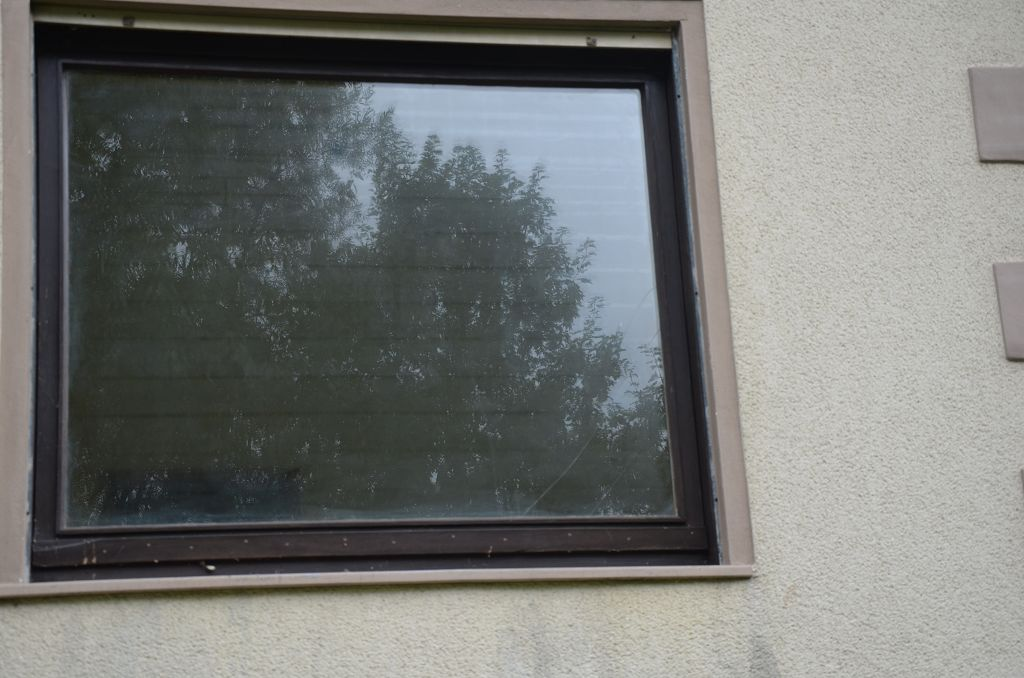windows: (36, 16, 724, 571)
